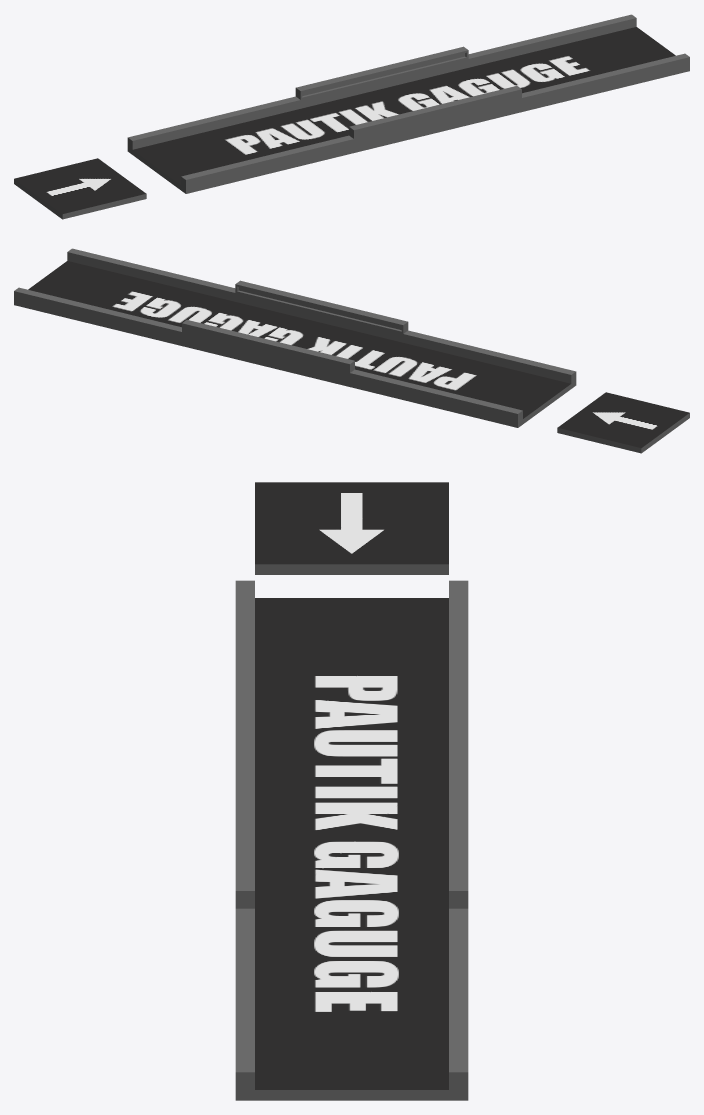
Rendered from Conveyor.FBX.
3 renders of one model, top to bottom at view 1: azimuth 30°, elevation 25°; view 2: azimuth 150°, elevation 25°; view 3: azimuth 270°, elevation 25°, orthographic. The views are drawn at different scales.
Parts seen in each view (by area): view 1: Conveyor, ConveyorBelts, ConnectorBelts, Connector; view 2: Conveyor, ConveyorBelts, ConnectorBelts, Connector; view 3: ConveyorBelts, Conveyor, ConnectorBelts, Connector.
Boxes of the visible parts, x1,y1,x2,y2 form: Conveyor: (127,14,689,193); ConveyorBelts: (133,27,675,184); ConnectorBelts: (14,158,146,214); Connector: (14,179,146,219); Conveyor: (14,248,576,427); ConveyorBelts: (28,261,570,418); ConnectorBelts: (557,392,689,448); Connector: (557,413,689,453); ConveyorBelts: (255,598,448,1089); Conveyor: (235,580,468,1100); ConnectorBelts: (255,482,448,564); Connector: (255,564,448,574).
Size of the model in its own units: 371 by 13 by 60.
Materials: 3 (2 with a texture image).
